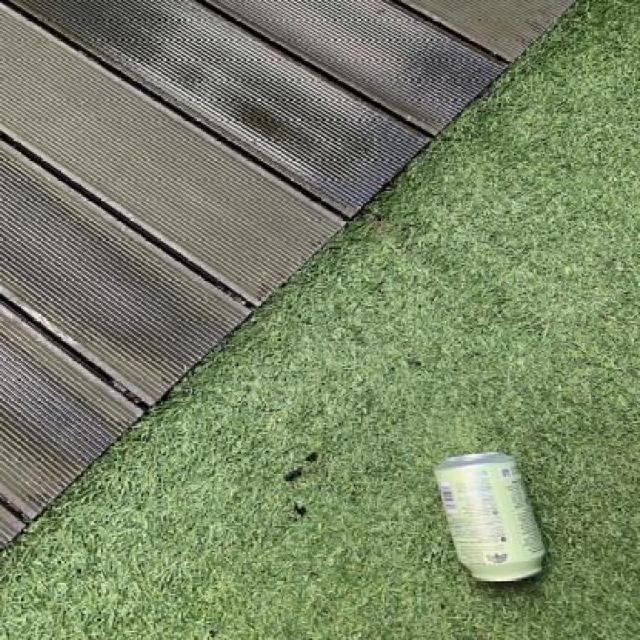trash: (428, 450, 552, 584)
